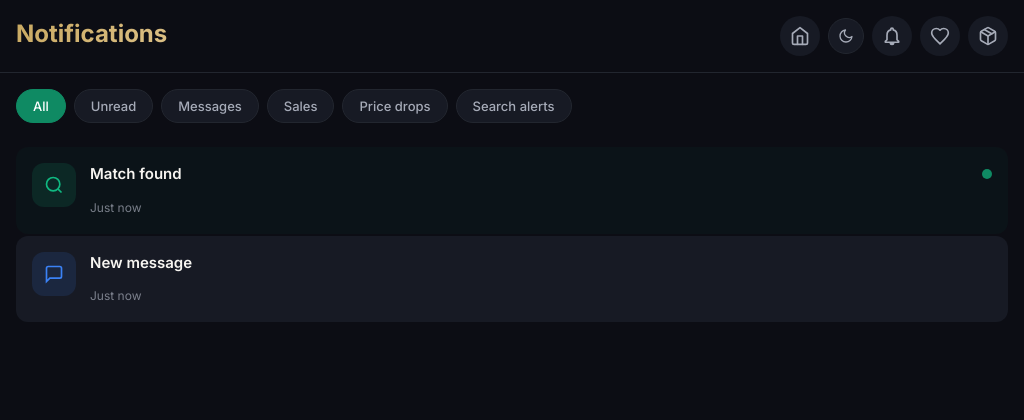
Test: Notifications › filters notifications by the Search alerts chip
Expected: the text "New message" is shown, [90,252,192,272]
Click the button "Search alerts".
click(514, 106)  # box [456,89,572,123]
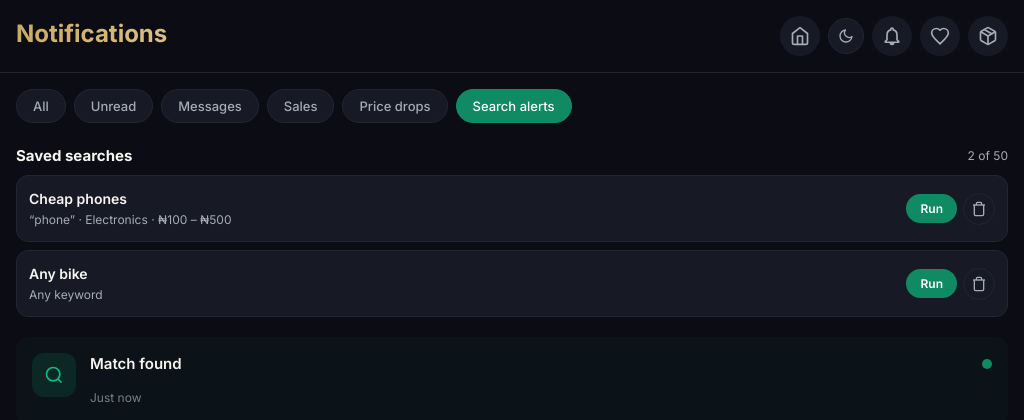
Expected: the text "Match found" is shown, [90,354,182,373]
Expected: the text "New message" is gone
